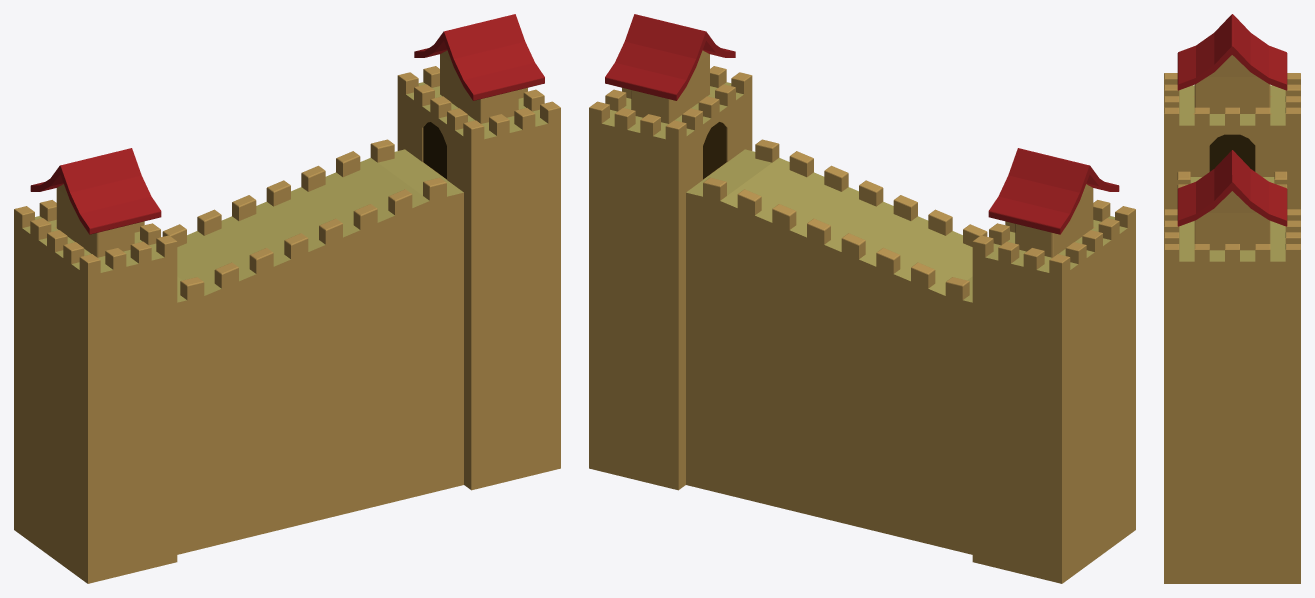
File: 3D_China_Level.fbx
3 views of the same model, side by side, from view 1: azimuth 30°, elevation 25°; view 2: azimuth 150°, elevation 25°; view 3: azimuth 270°, elevation 25° (orthographic). The views are drawn at different scales.
Visible parts, largest first — view 1: Wall, Tower_Left, Tower_Right; view 2: Wall, Tower_Left, Tower_Right; view 3: Tower_Right, Tower_Left, Wall.
Boxes of the visible parts, x1,y1,x2,y2 form: Wall: (162,139,463,554); Tower_Left: (14,148,177,583); Tower_Right: (397,14,560,490); Wall: (686,139,987,554); Tower_Left: (972,148,1135,583); Tower_Right: (589,14,752,490); Tower_Right: (1164,150,1300,583); Tower_Left: (1164,14,1300,209); Wall: (1177,171,1287,221).
Size of the model in its own units: 7881 by 6839 by 2130.
